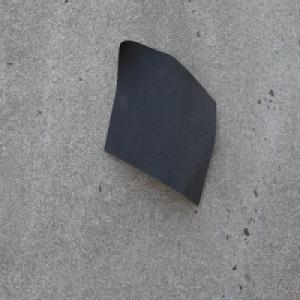PaintChip: (103, 38, 217, 207)
